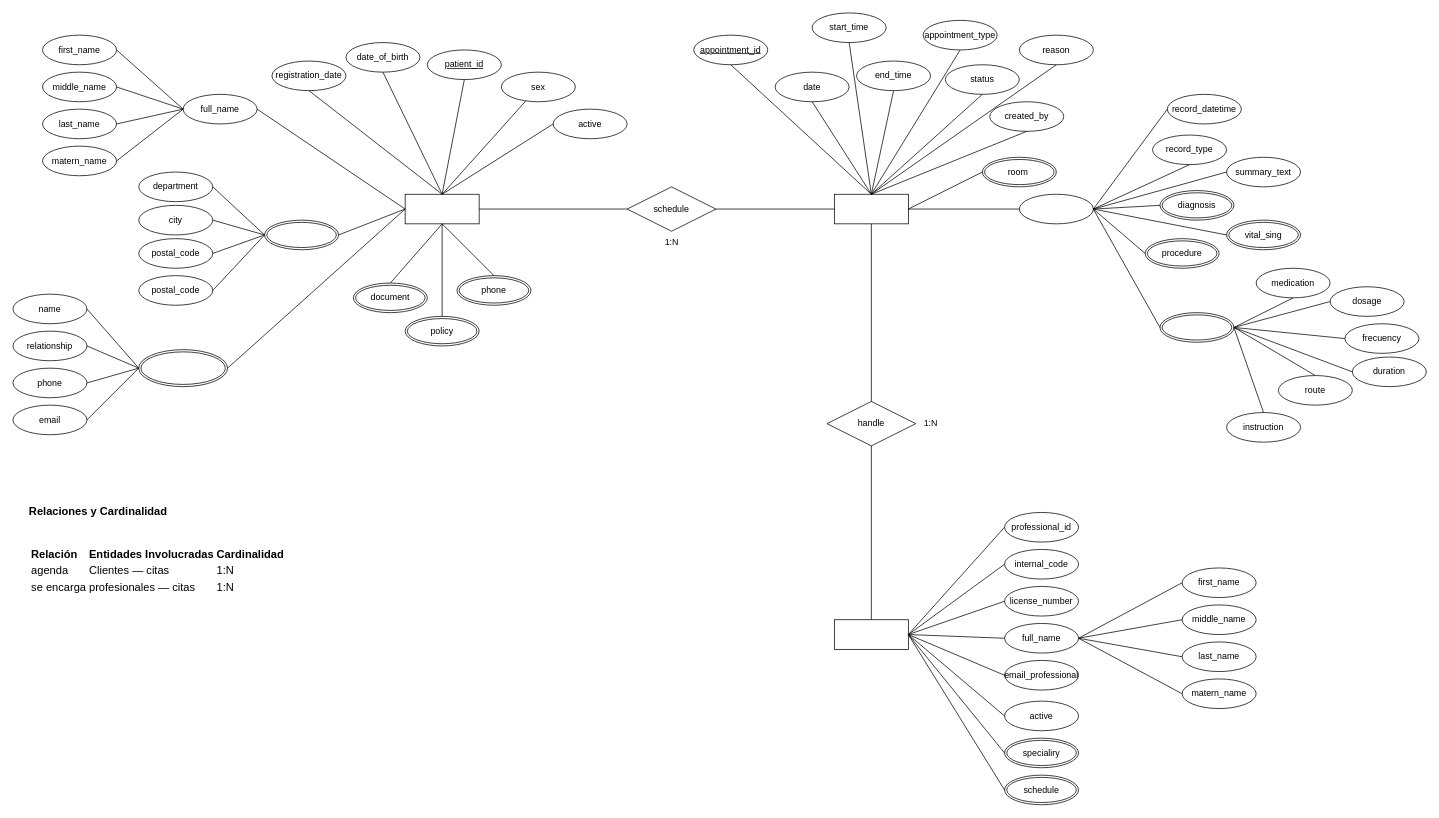
Some shapes in this 1439 by 818 pixel diagram are drawn without their labels. The centre of each missing label's shape, as x and y in pixels:
address: the point at 301,234
appointments: the point at 871,209
clinical_record: the point at 1056,209
emergency_contact: the point at 183,368
patients: the point at 441,209
prescription: the point at 1196,327
professionals: the point at 871,634
